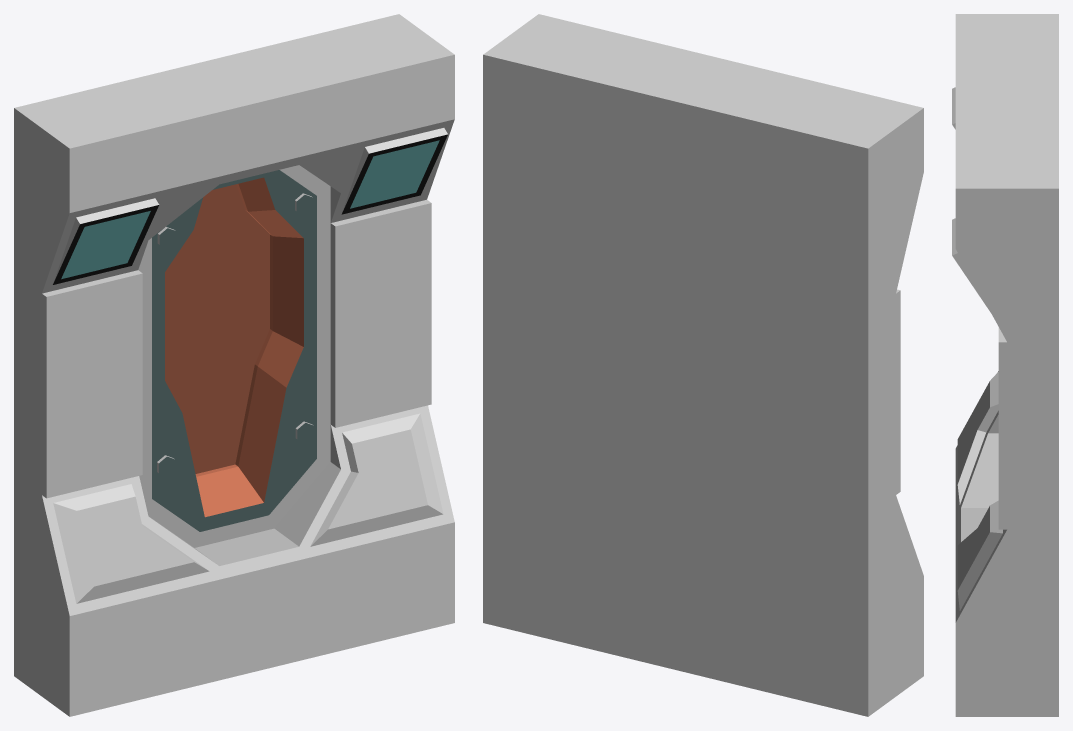
File: SciFi_Wall_Panel_Escape_Pod_White_01.fbx
3 renders of one model, left to right at view 1: azimuth 30°, elevation 25°; view 2: azimuth 150°, elevation 25°; view 3: azimuth 270°, elevation 25°, orthographic. The views are drawn at different scales.
Visible parts, largest first — view 1: SciFi_Wall_Panel_Escape_Pod_White_01; view 2: SciFi_Wall_Panel_Escape_Pod_White_01; view 3: SciFi_Wall_Panel_Escape_Pod_White_01.
Part boxes in pixels (x1,y1,x2,y2): SciFi_Wall_Panel_Escape_Pod_White_01: (14,14,454,716); SciFi_Wall_Panel_Escape_Pod_White_01: (483,14,923,716); SciFi_Wall_Panel_Escape_Pod_White_01: (952,14,1058,716).
Bounding box in the file's own units: 62.99 × 88.83 × 16.28.
